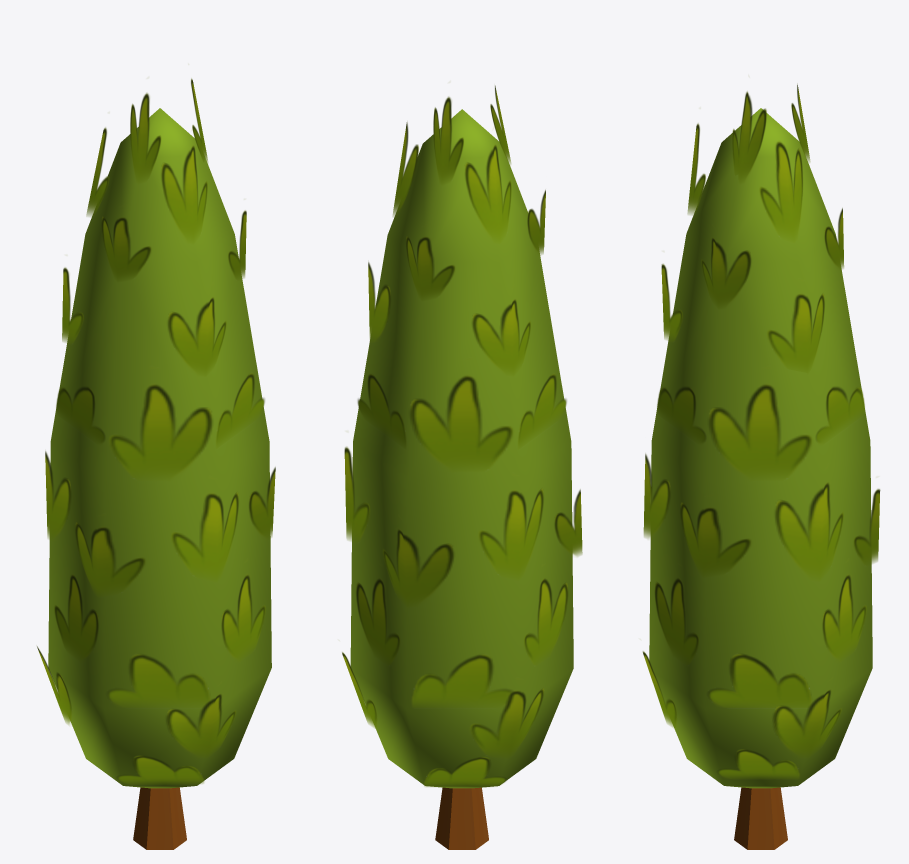
File: wm_tree01_glb.glb
The picture shows the model from 3 angles, left to right: view 1: azimuth 30°, elevation 25°; view 2: azimuth 150°, elevation 25°; view 3: azimuth 270°, elevation 25°; orthographic projection.
Visible parts, largest first — view 1: wm_tree01_alt2; view 2: wm_tree01_alt2; view 3: wm_tree01_alt2.
Boxes of the visible parts, x1,y1,x2,y2 form: wm_tree01_alt2: (37, 78, 275, 849); wm_tree01_alt2: (342, 85, 582, 849); wm_tree01_alt2: (642, 84, 880, 849).
Size of what is drawn, in the model's own units: 1.85 by 6.51 by 1.94.
Materials: 2 (2 with a texture image).
